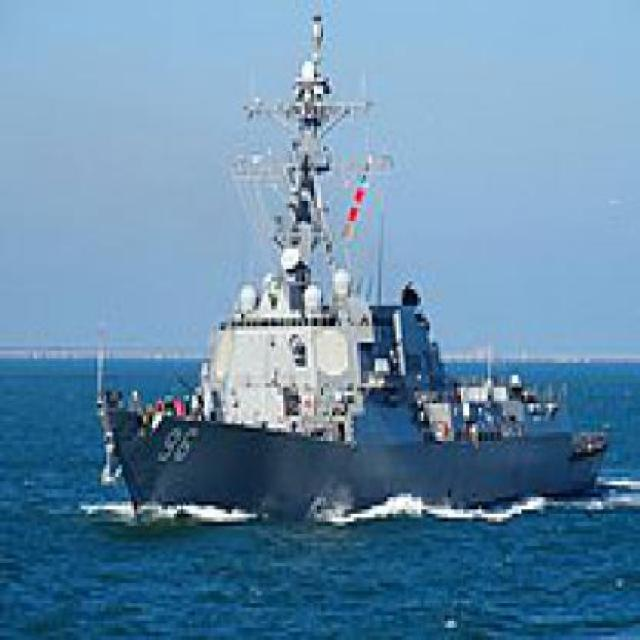warship2: (93, 9, 617, 547)
